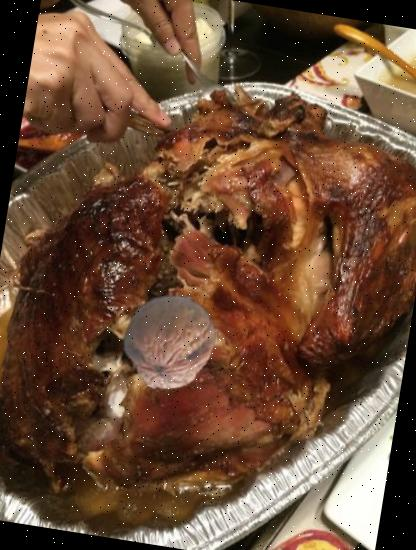Walnut: (113, 286, 225, 397)
